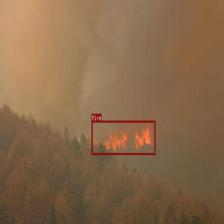fire: (92, 120, 156, 155)
